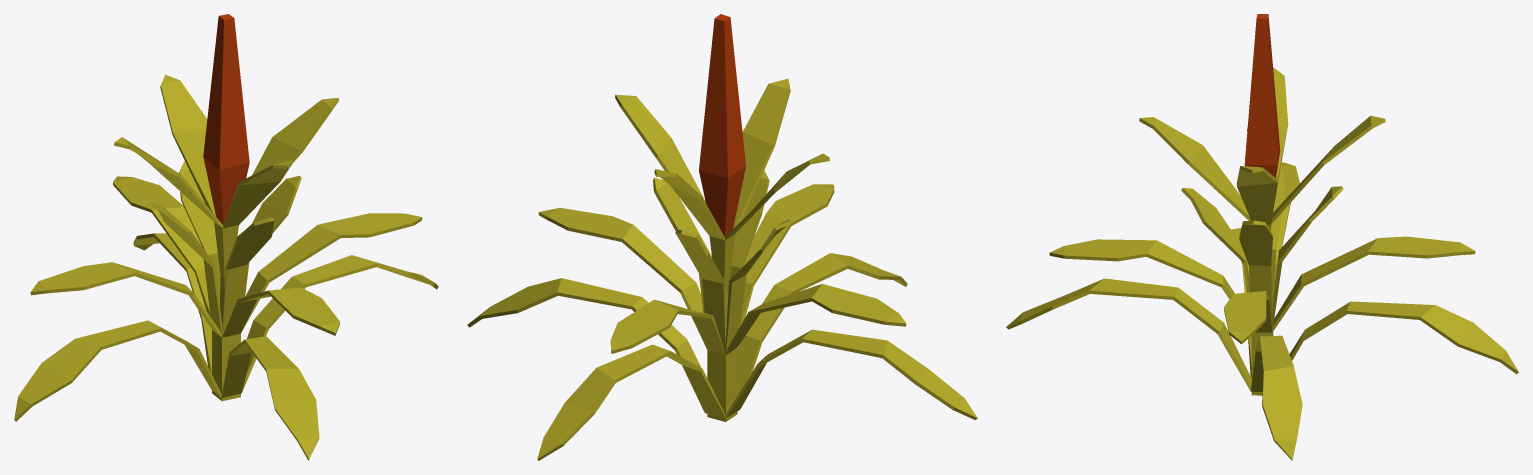
File: ShootTower.fbx
3 renders of one model, left to right at view 1: azimuth 30°, elevation 25°; view 2: azimuth 150°, elevation 25°; view 3: azimuth 270°, elevation 25°, orthographic. The views are drawn at different scales.
Visible parts, largest first — view 1: Plant_5; view 2: Plant_5; view 3: Plant_5.
Part boxes in pixels (x1=…): Plant_5: x1=14, y1=14, x2=438, y2=460; Plant_5: x1=467, y1=14, x2=977, y2=460; Plant_5: x1=1006, y1=14, x2=1518, y2=460.
Size of the model in its own units: 174 by 139 by 172.
